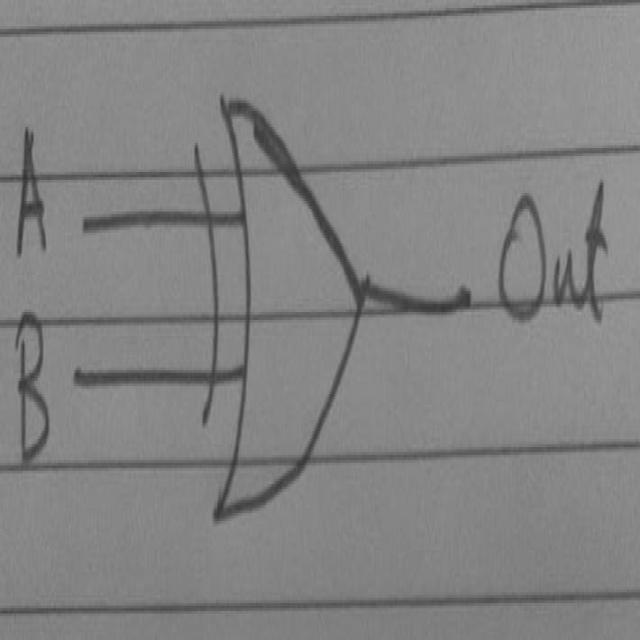XOR: (187, 53, 380, 557)
